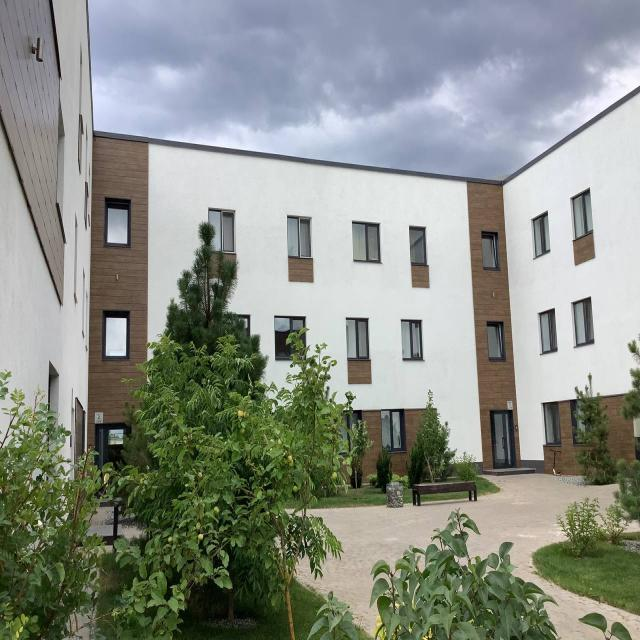Building: (0, 2, 640, 471)
